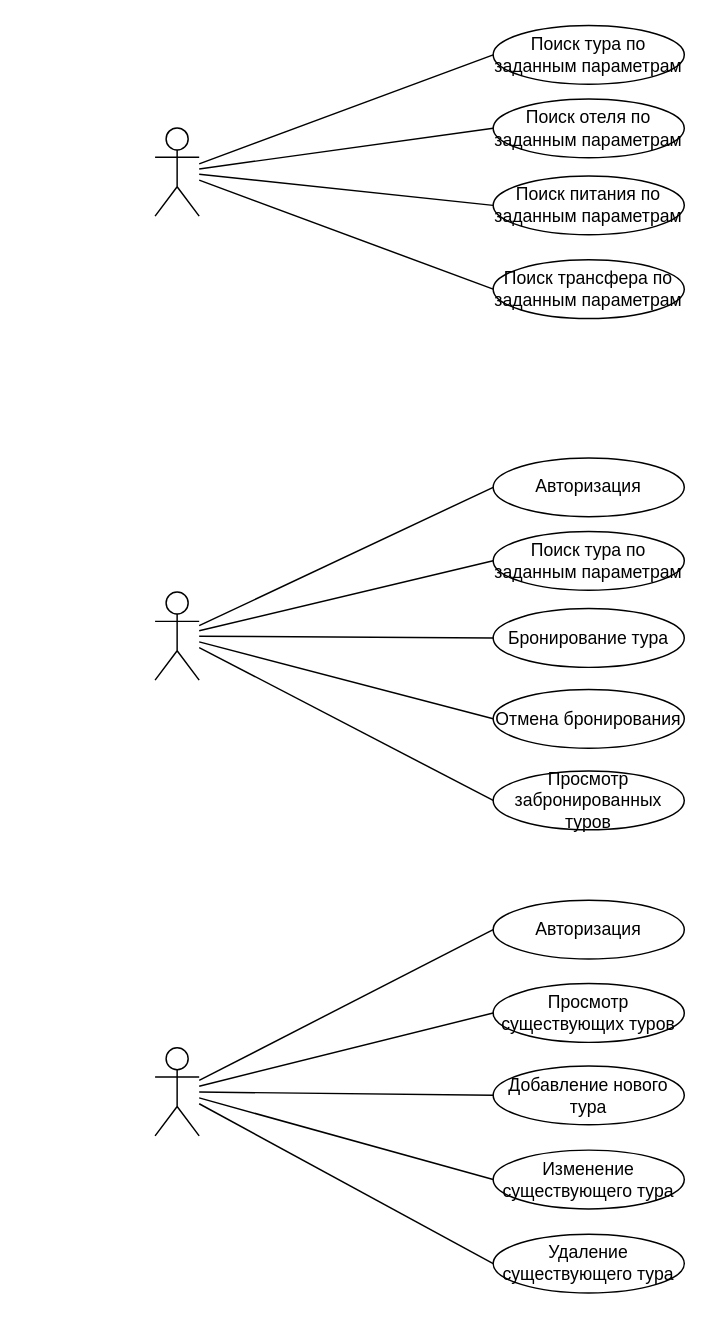
Image size: 710x1320. Some labels were removed from this diagram. Each missing label, with the box of its shape:
Гость (неавторизированный пользователь): (154, 126, 199, 216)
Менеджер: (154, 1046, 199, 1136)
Турист (авторизированный пользователь): (154, 590, 199, 680)
